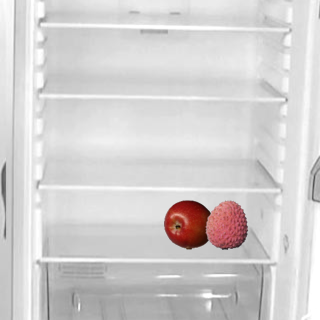Apple Braeburn: (163, 199, 213, 249)
Lychee: (201, 199, 251, 249)
